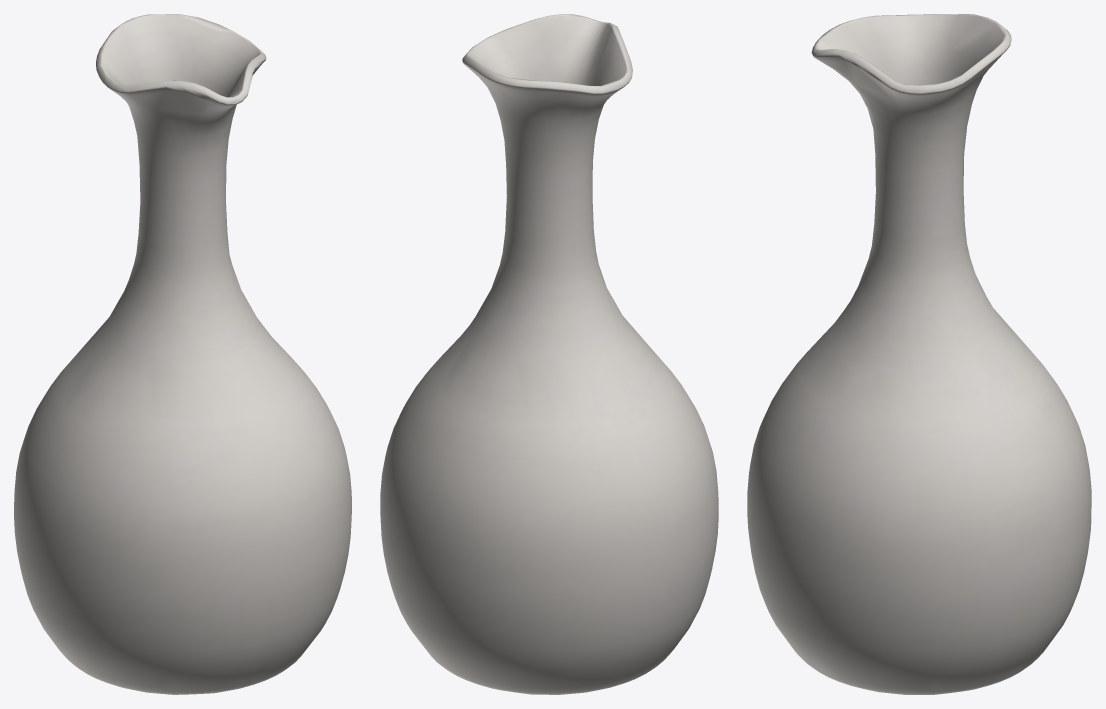
File: ceramic_vase_01.glb
The picture shows the model from 3 angles, left to right: view 1: azimuth 30°, elevation 25°; view 2: azimuth 150°, elevation 25°; view 3: azimuth 270°, elevation 25°; orthographic projection.
Parts seen in each view (by area): view 1: ceramic_vase_01; view 2: ceramic_vase_01; view 3: ceramic_vase_01.
Boxes of the visible parts, x1,y1,x2,y2 form: ceramic_vase_01: (14,14,351,694); ceramic_vase_01: (380,14,718,694); ceramic_vase_01: (747,14,1091,694).
Size of the model in its own units: 0.2036 by 0.4003 by 0.2035.
1 material, 1 textured.
